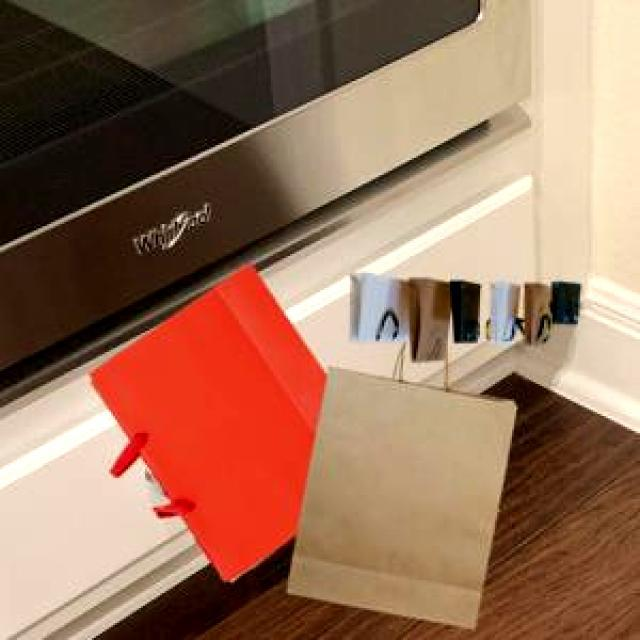Paper_Bag: (86, 262, 324, 580), (284, 351, 514, 626), (347, 270, 577, 360)
